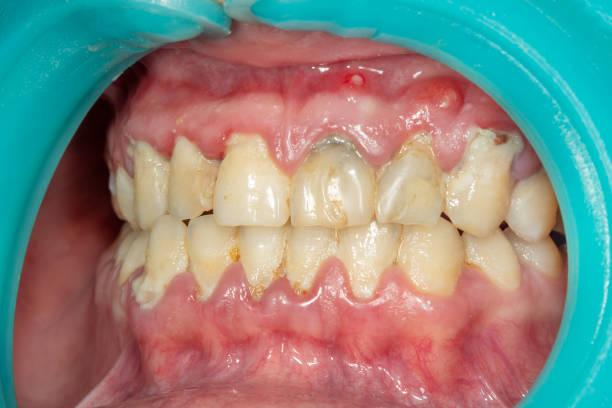Calculus: (304, 124, 378, 189)
Ulcer: (435, 80, 469, 113), (346, 69, 379, 99)
